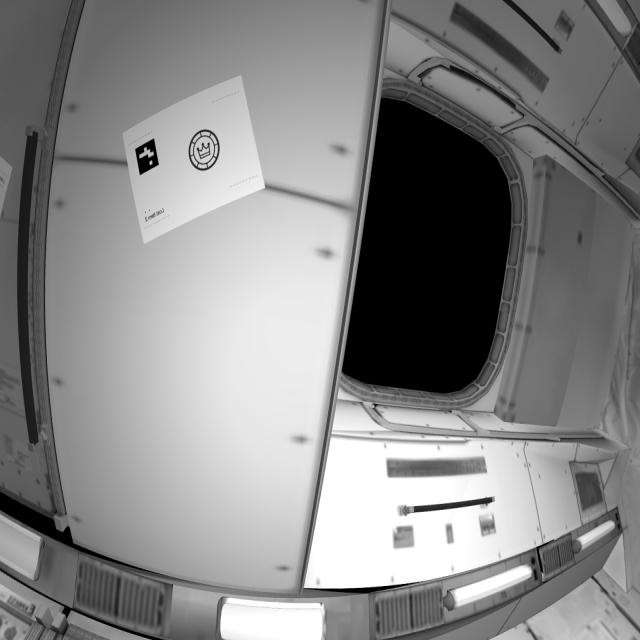coin: (183, 123, 226, 178)
